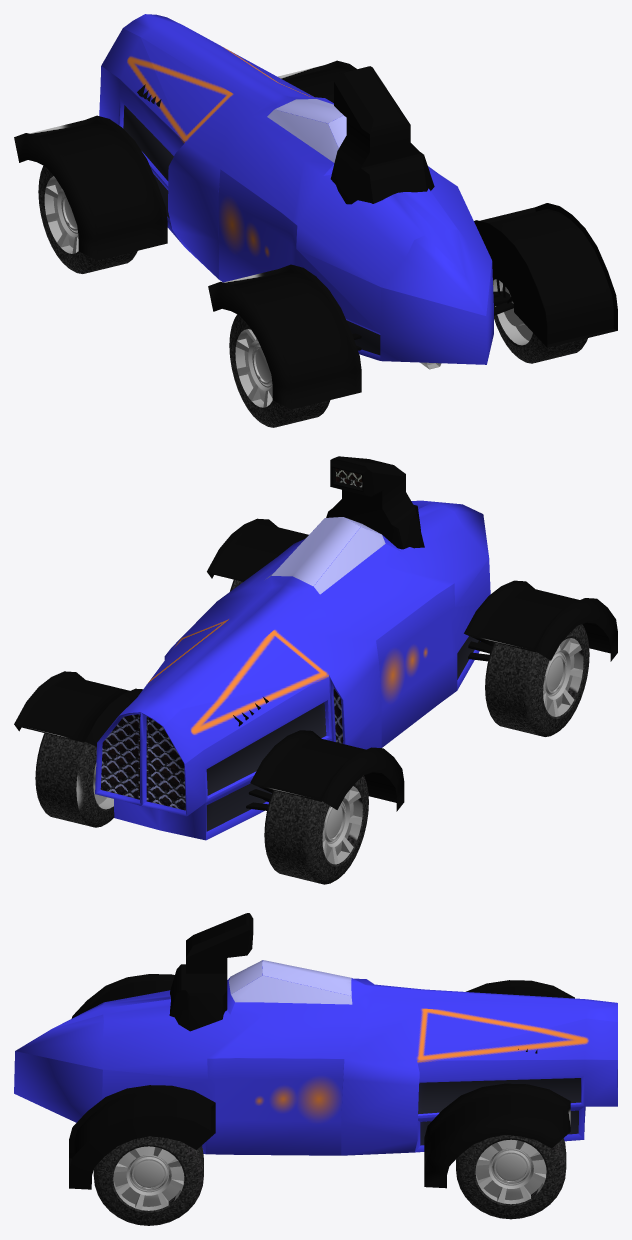
Rendered from car.fbx.
3 views of the same model, one above another, from view 1: azimuth 30°, elevation 25°; view 2: azimuth 150°, elevation 25°; view 3: azimuth 270°, elevation 25° (orthographic). The views are drawn at different scales.
Parts seen in each view (by area): view 1: Body, wheelWing.003, wheelWing.001, wheelWing, airIntakeBig, wheel.002, wheel, wheel.001, wheelWing.002; view 2: Body, wheel.002, wheel, wheelWing, wheelWing.001, airIntakeBig, wheelWing.002, wheel.003, wheelWing.003; view 3: Body, wheelWing.003, wheelWing.002, wheel.001, wheel.003, airIntakeBig, wheelWing.001, wheelWing.
Boxes of the visible parts, <box> form: Body: <box>99,14,493,364</box>; wheelWing.003: <box>474,203,617,347</box>; wheelWing.001: <box>208,264,361,409</box>; wheelWing: <box>14,115,167,260</box>; airIntakeBig: <box>330,66,434,204</box>; wheel.002: <box>229,314,330,427</box>; wheel: <box>38,165,137,273</box>; wheel.001: <box>493,279,587,363</box>; wheelWing.002: <box>278,60,356,102</box>; Body: <box>95,500,490,840</box>; wheel.002: <box>485,624,589,736</box>; wheel: <box>264,775,368,884</box>; wheelWing: <box>250,730,404,811</box>; wheelWing.001: <box>464,580,617,661</box>; airIntakeBig: <box>326,456,424,549</box>; wheelWing.002: <box>14,671,142,746</box>; wheel.003: <box>35,733,114,827</box>; wheelWing.003: <box>207,518,308,581</box>; Body: <box>14,960,617,1155</box>; wheelWing.003: <box>69,1085,215,1189</box>; wheelWing.002: <box>424,1083,570,1188</box>; wheel.001: <box>93,1136,203,1225</box>; wheel.003: <box>456,1135,566,1219</box>; airIntakeBig: <box>169,913,253,1031</box>; wheelWing.001: <box>71,974,174,1018</box>; wheelWing: <box>466,980,574,998</box>.
Bounding box in the file's own units: 221 × 173 × 387.
1 material, 1 textured.
